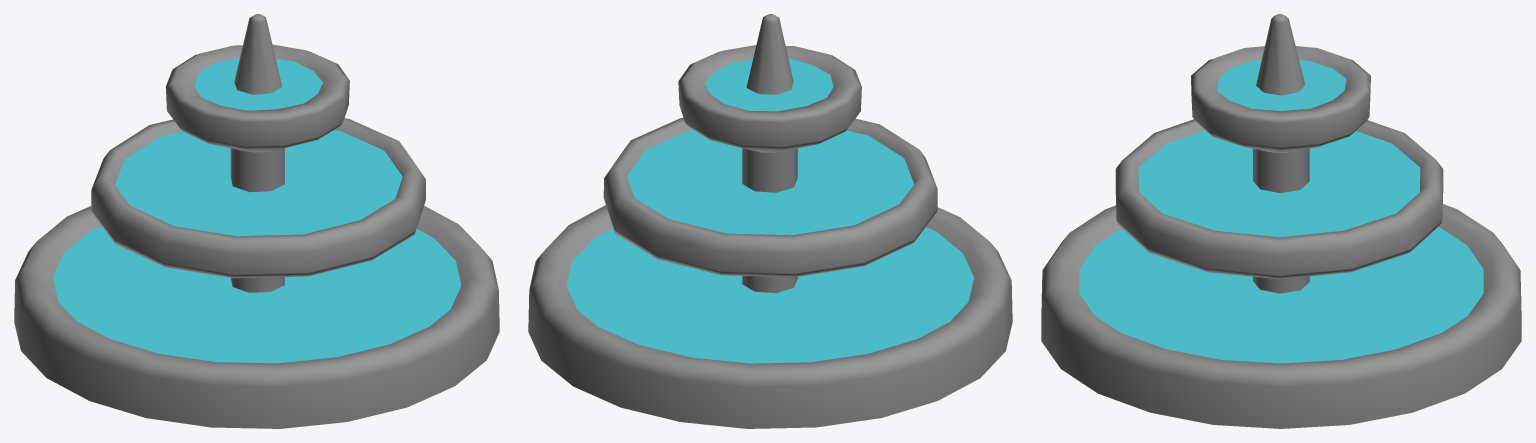
The model's file is fountain_002.gltf.
3 views of the same model, side by side, from view 1: azimuth 30°, elevation 25°; view 2: azimuth 150°, elevation 25°; view 3: azimuth 270°, elevation 25° (orthographic).
Visible parts, largest first — view 1: fountain_002; view 2: fountain_002; view 3: fountain_002.
Boxes of the visible parts, left/top/right/bottom form: fountain_002: left=14, top=14, right=499, bottom=428; fountain_002: left=528, top=14, right=1012, bottom=428; fountain_002: left=1041, top=14, right=1521, bottom=428.
Size of the model in its own units: 3.32 by 2.34 by 3.28.
Materials: 1 (1 with a texture image).
